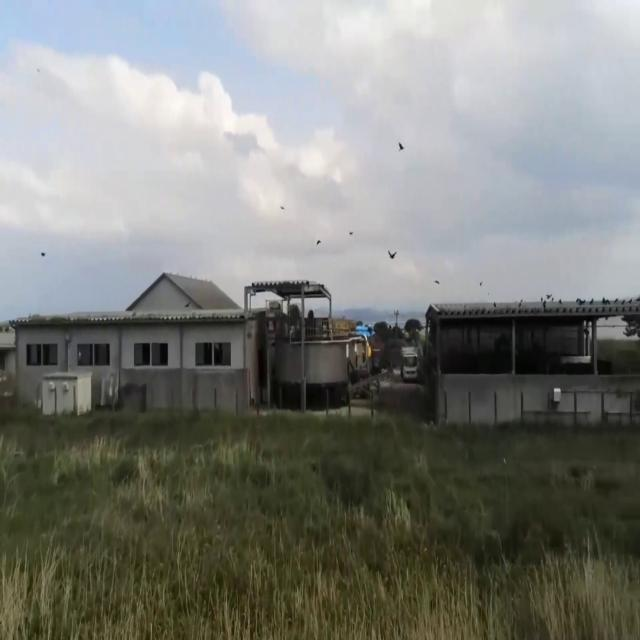bird: (387, 241, 398, 271)
